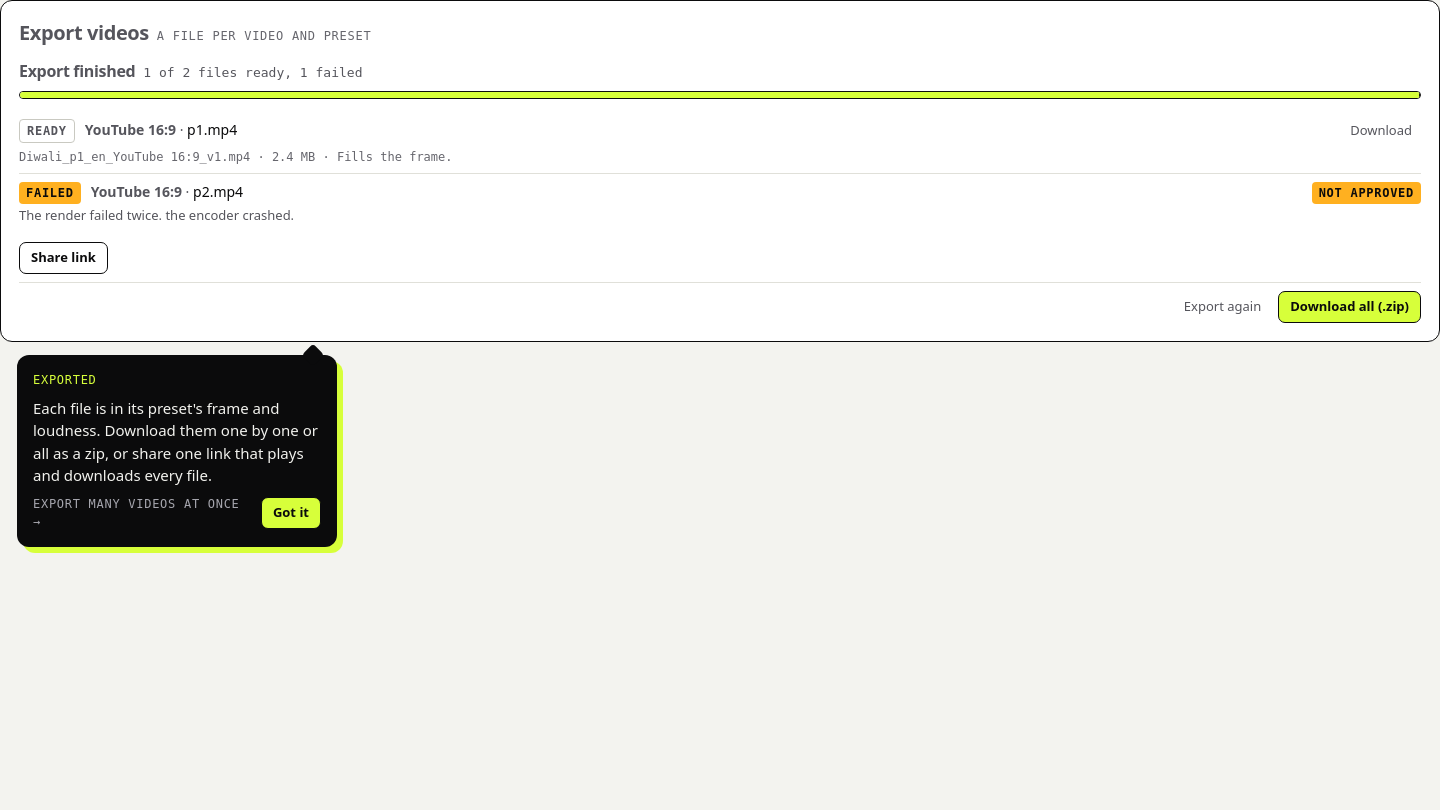
Scenario: B3: export videos › shows each file, a failure with its reason, the zip and a share link
Expected: the text "Export finished" is shown, [19, 59, 135, 83]
Expected: the text "The render failed twice. the encoder crashed." is shown, [19, 206, 294, 224]
Click the button "Share link": (63, 258) [19, 242, 108, 274]
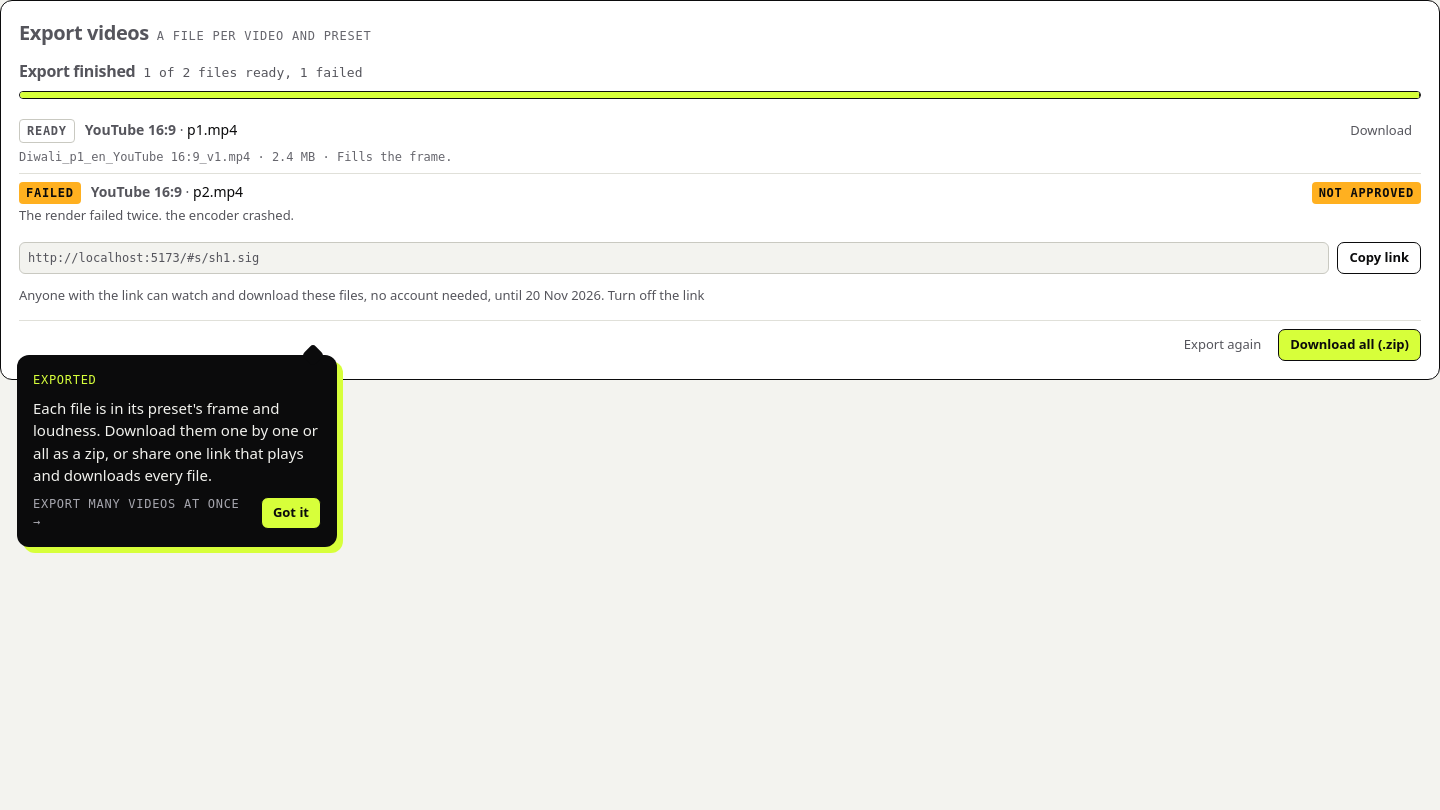
Expected: the field named "Share link" holds "http://localhost:5173/#s/sh1.sig", [19, 242, 1329, 274]
Expected: the element with test id "export-share" shows "no account needed", [19, 286, 525, 304]
Click the button "Export again": (1222, 344) [1175, 328, 1270, 360]
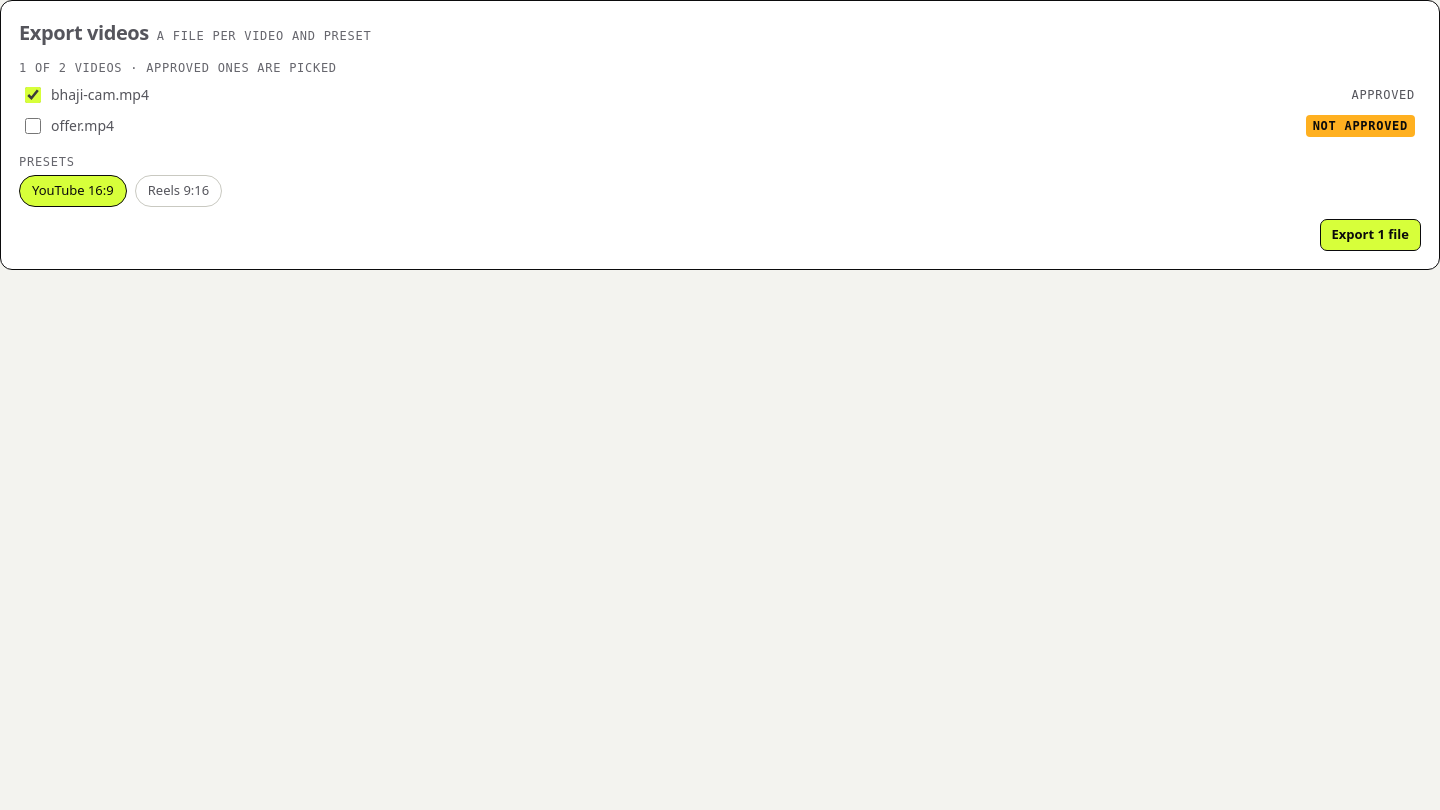
Expected: the form with test id "export-pick" is shown, [19, 59, 1421, 251]
